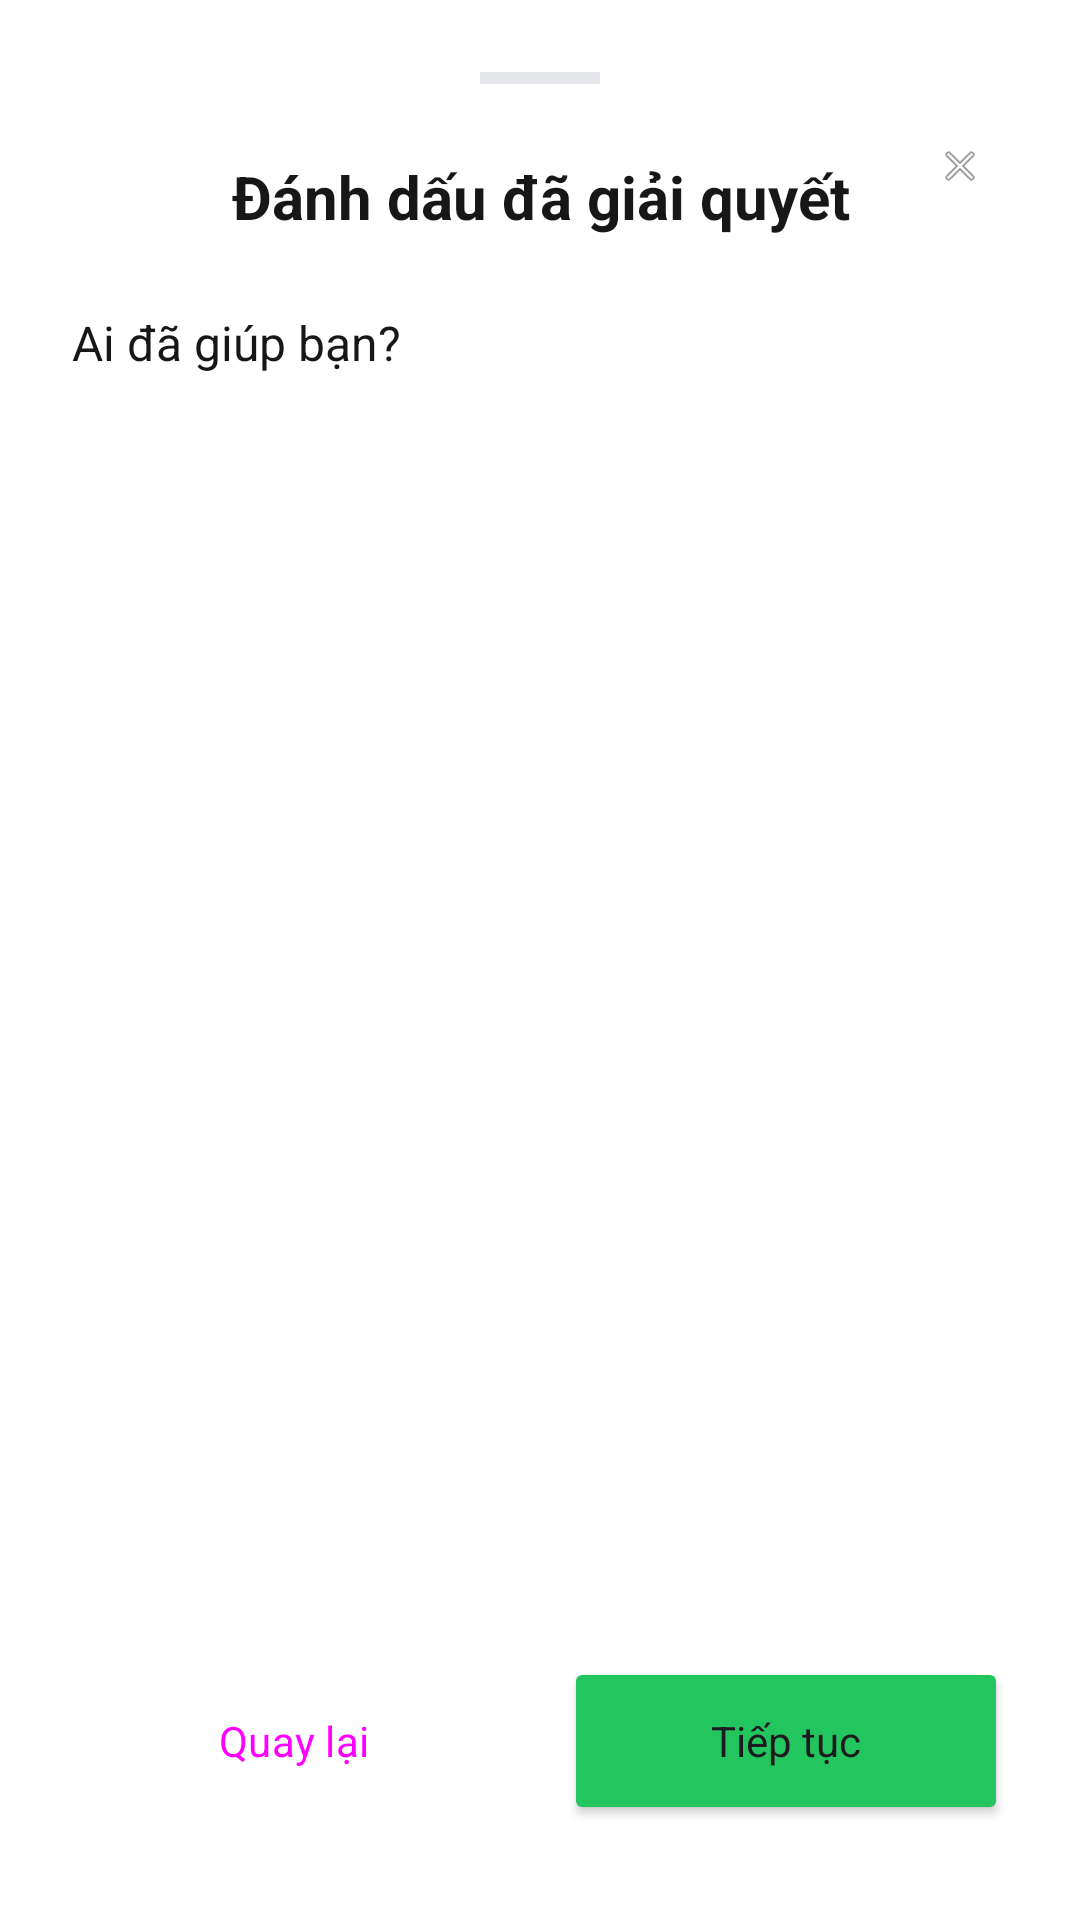

Point at icon controls on the screen. Image size 1080*1920, points as (x,y).
Đóng: (960,166)
